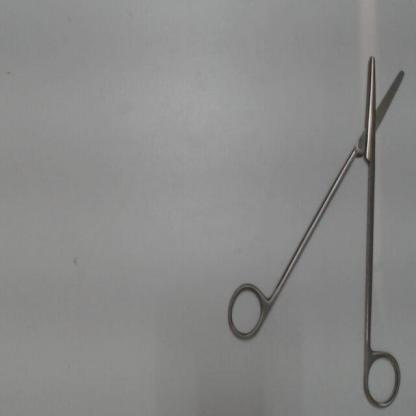9 Metzenbaum Scissors: (223, 51, 410, 414)
